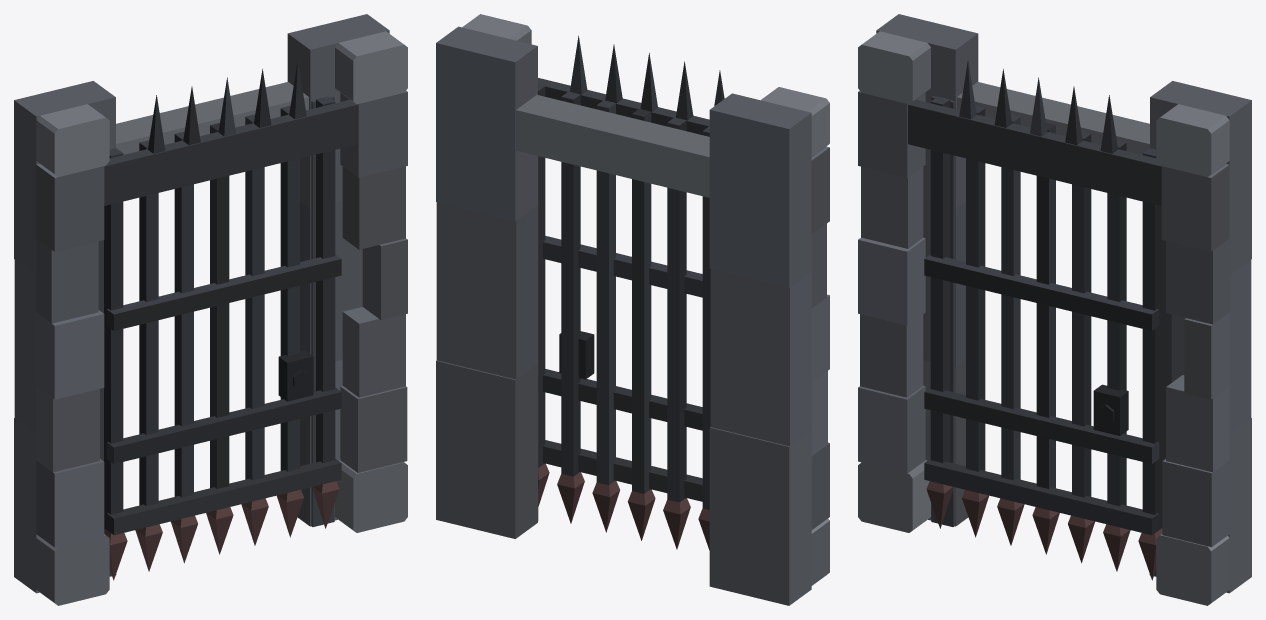
Rendered from barred-portcullis-2aa444.glb.
The picture shows the model from 3 angles, left to right: view 1: azimuth 30°, elevation 25°; view 2: azimuth 150°, elevation 25°; view 3: azimuth 330°, elevation 25°; orthographic projection.
Visible parts, largest first — view 1: object 1, portcullis; view 2: object 1, portcullis; view 3: object 1, portcullis.
Part boxes in pixels (x1=…): object 1: x1=14, y1=14, x2=407, y2=605; portcullis: x1=104, y1=96, x2=341, y2=580; object 1: x1=436, y1=14, x2=829, y2=605; portcullis: x1=538, y1=84, x2=710, y2=550; object 1: x1=858, y1=14, x2=1251, y2=605; portcullis: x1=924, y1=96, x2=1162, y2=580.
Size of the model in its own units: 2 by 2.62 by 0.4.
